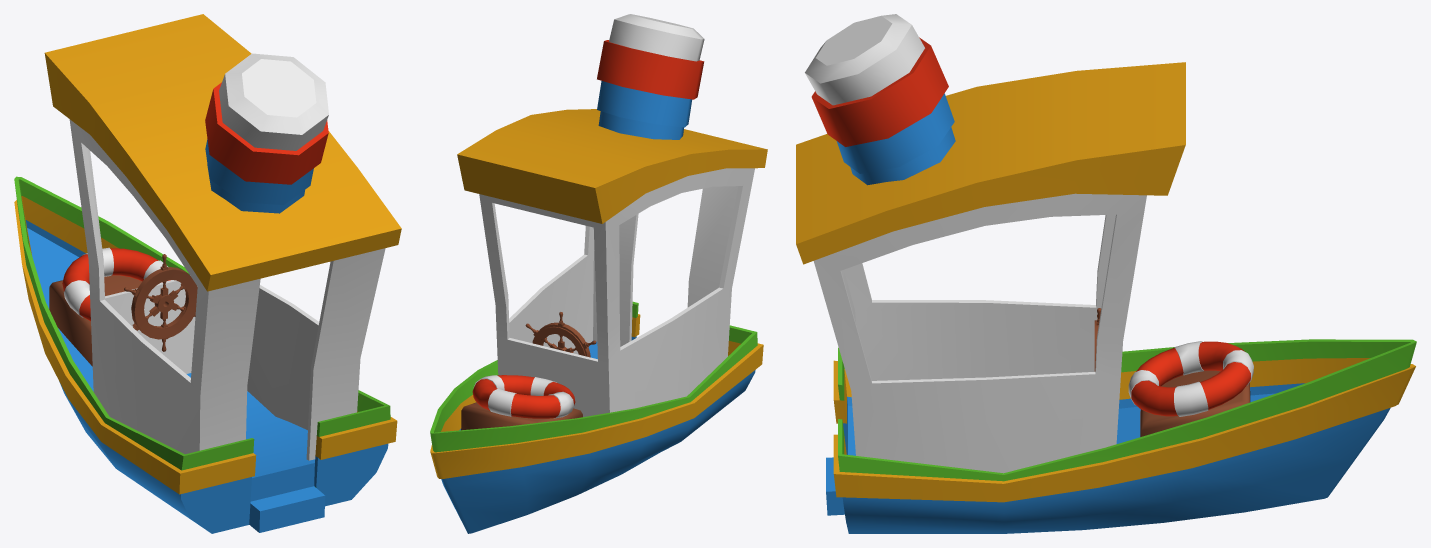
File: Chaloupe-.fbx
The picture shows the model from 3 angles, left to right: view 1: azimuth 30°, elevation 25°; view 2: azimuth 150°, elevation 25°; view 3: azimuth 270°, elevation 25°; orthographic projection. The views are drawn at different scales.
Visible parts, largest first — view 1: Cabine, Coque, Cheminée, Volant, Bouée, Box; view 2: Cabine, Coque, Cheminée, Bouée, Box, Volant; view 3: Cabine, Coque, Cheminée, Bouée, Box.
Part boxes in pixels (<box>): Cabine: <box>44,14,401,460</box>; Coque: <box>14,176,397,533</box>; Cheminée: <box>205,53,328,213</box>; Volant: <box>124,254,197,351</box>; Bouée: <box>62,247,170,321</box>; Box: <box>49,275,141,366</box>; Cabine: <box>457,109,767,416</box>; Coque: <box>430,301,763,533</box>; Cheminée: <box>597,14,704,139</box>; Bouée: <box>472,375,575,418</box>; Box: <box>461,402,582,430</box>; Volant: <box>525,312,596,357</box>; Cabine: <box>796,62,1185,473</box>; Coque: <box>826,339,1416,533</box>; Cheminée: <box>805,14,955,185</box>; Bouée: <box>1128,341,1253,416</box>; Box: <box>1140,370,1250,436</box>.
Size of the model in its own units: 148 by 288 by 342.
